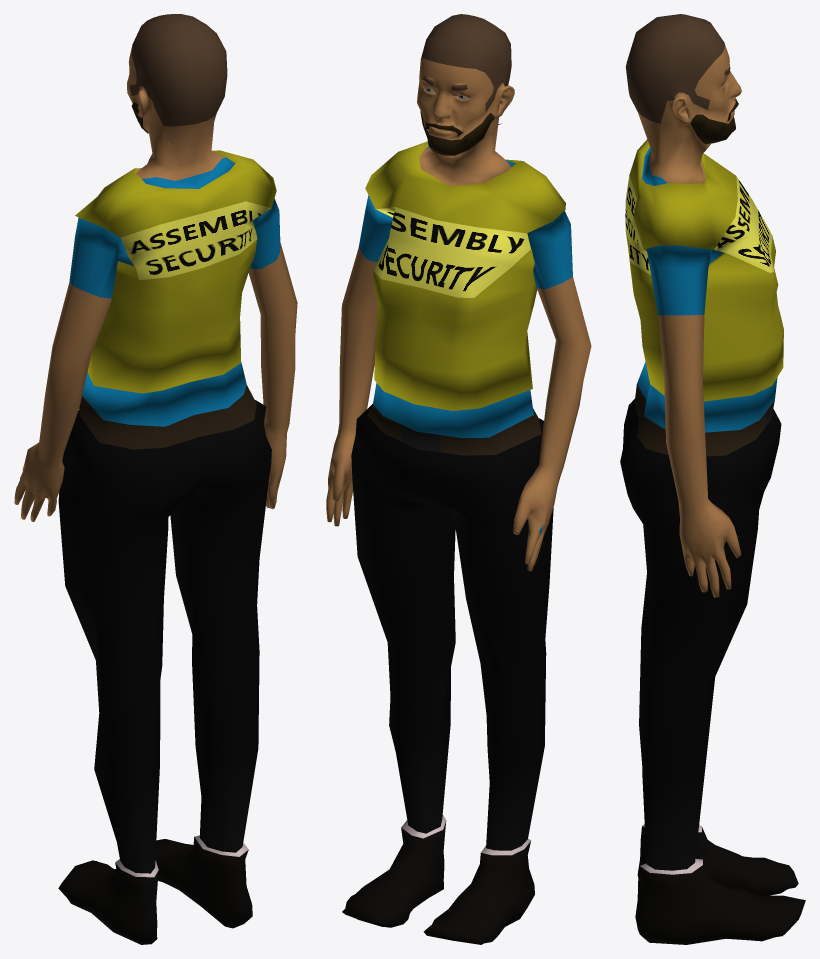
Rendered from securityguy_000004.obj.
The picture shows the model from 3 angles, left to right: view 1: azimuth 30°, elevation 25°; view 2: azimuth 150°, elevation 25°; view 3: azimuth 270°, elevation 25°; orthographic projection. The views are drawn at different scales.
Parts seen in each view (by area): view 1: Cube; view 2: Cube; view 3: Cube.
Boxes of the visible parts, left/top/right/bottom form: Cube: left=14, top=14, right=297, bottom=944; Cube: left=326, top=14, right=591, bottom=944; Cube: left=620, top=14, right=805, bottom=944.
Size of the model in its own units: 27.75 by 97.22 by 18.17.
Materials: 13 (1 with a texture image).
